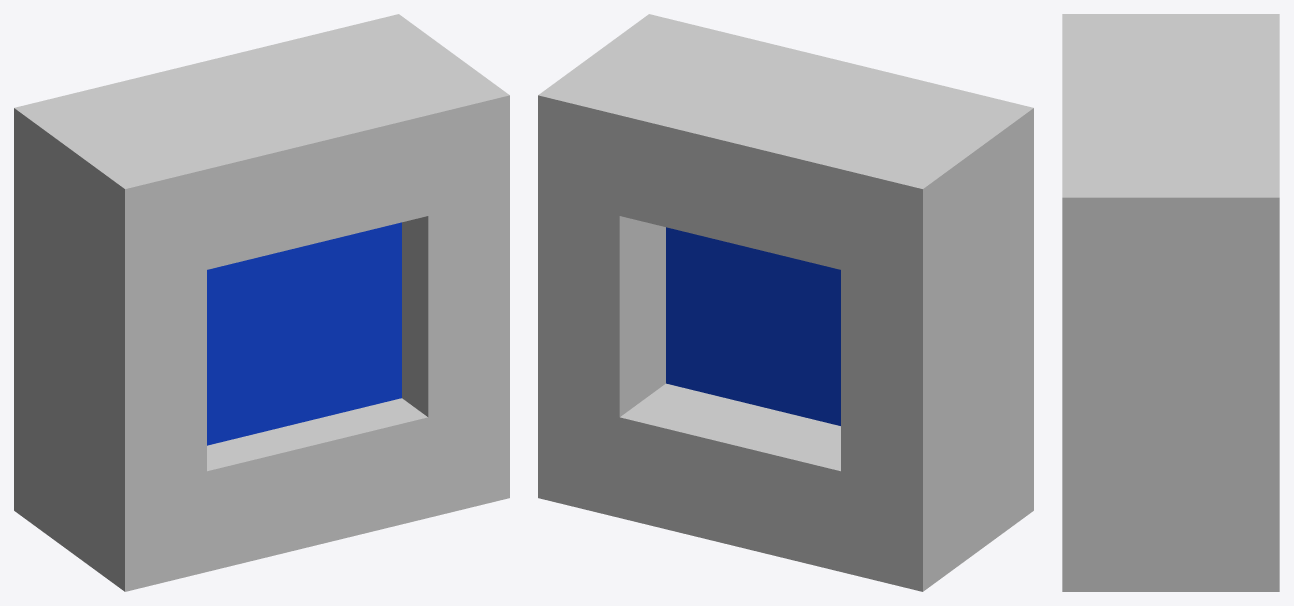
File: Window 2x2x1 Solid.fbx
3 renders of one model, left to right at view 1: azimuth 30°, elevation 25°; view 2: azimuth 150°, elevation 25°; view 3: azimuth 270°, elevation 25°, orthographic. The views are drawn at different scales.
Visible parts, largest first — view 1: Window Concrete 2x2x1, Glass; view 2: Window Concrete 2x2x1, Glass; view 3: Window Concrete 2x2x1.
Part boxes in pixels (x1,y1,x2,y2): Window Concrete 2x2x1: (14, 14, 509, 591); Glass: (207, 222, 401, 445); Window Concrete 2x2x1: (538, 14, 1033, 591); Glass: (666, 227, 840, 425); Window Concrete 2x2x1: (1062, 14, 1279, 591).
Size of the model in its own units: 2 by 2 by 1.
